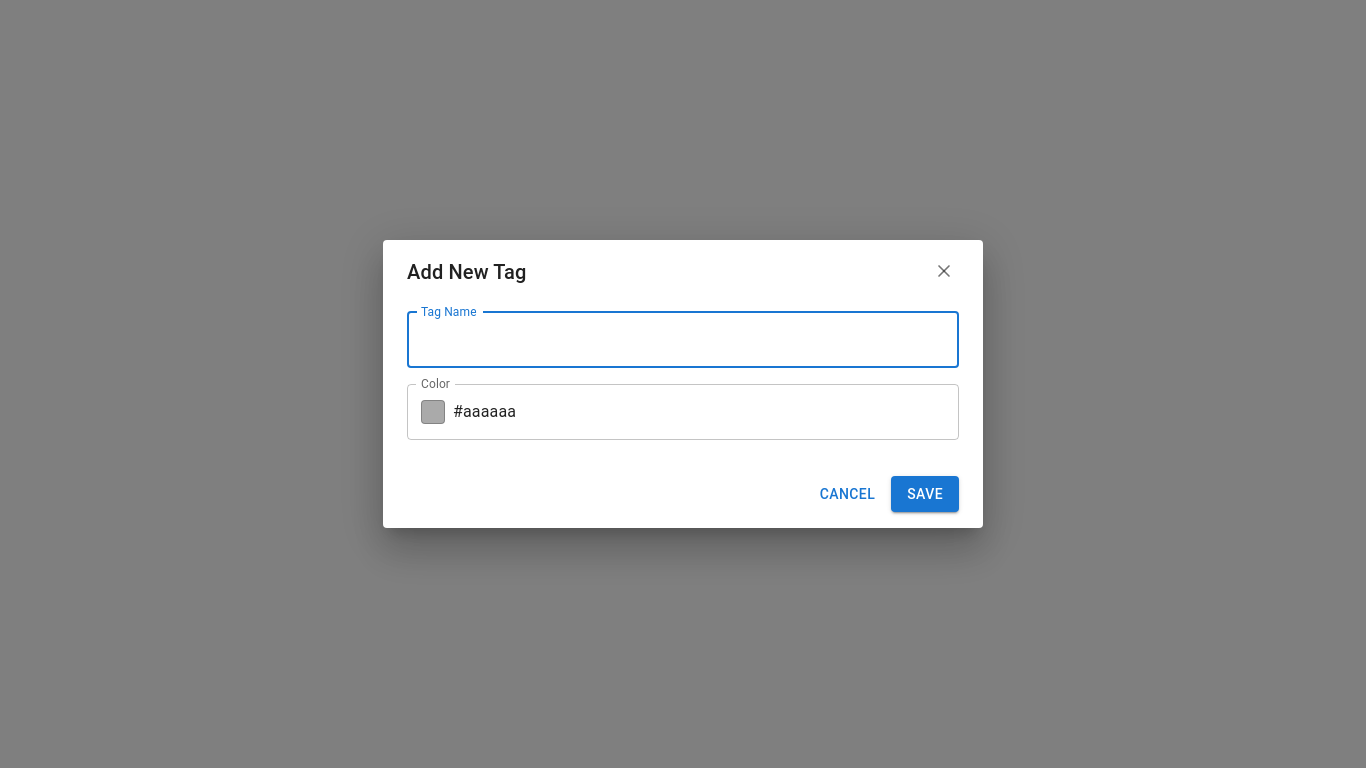
Test: TagFormDialog › asks for a name instead of saving when the name is blank
Click the button "Save": coordinates (925, 494) [891, 476, 959, 512]
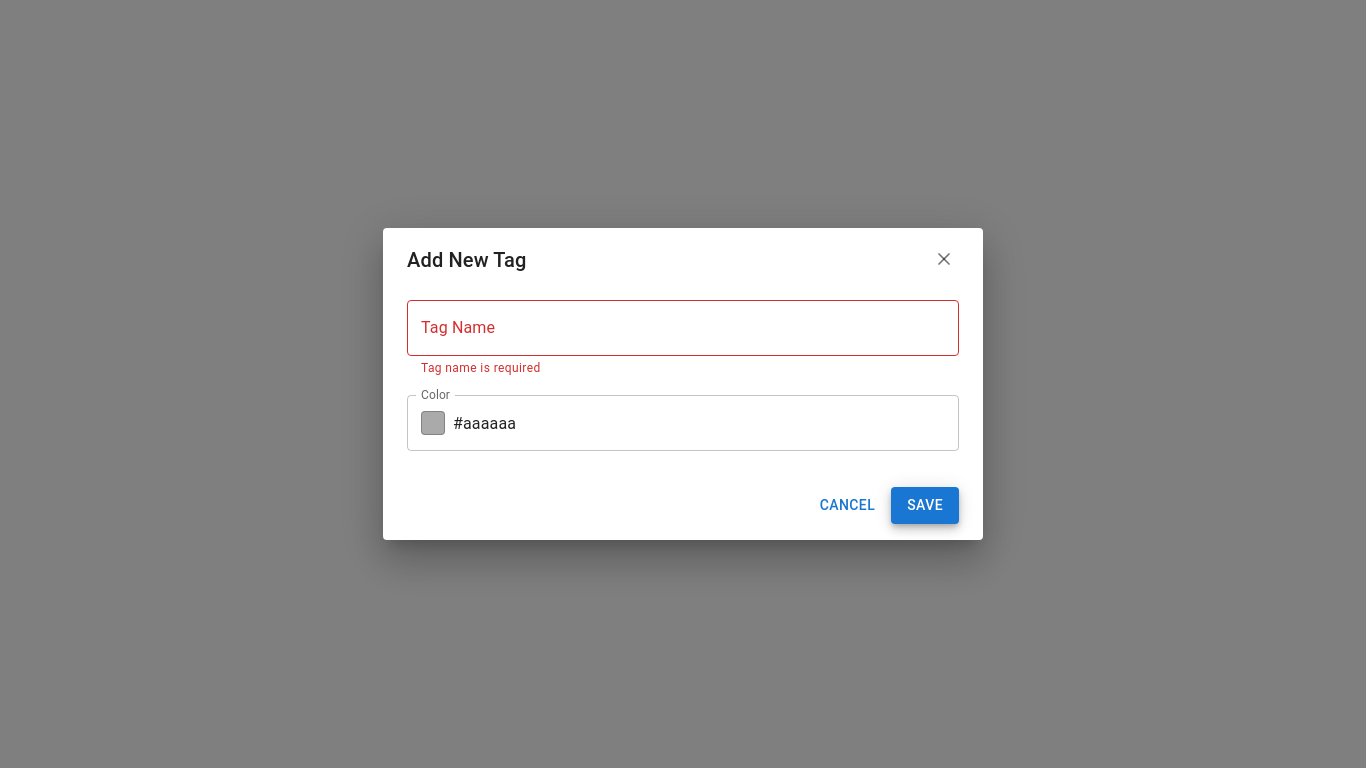
Expected: the text "Tag name is required" is shown, [421, 361, 541, 375]
